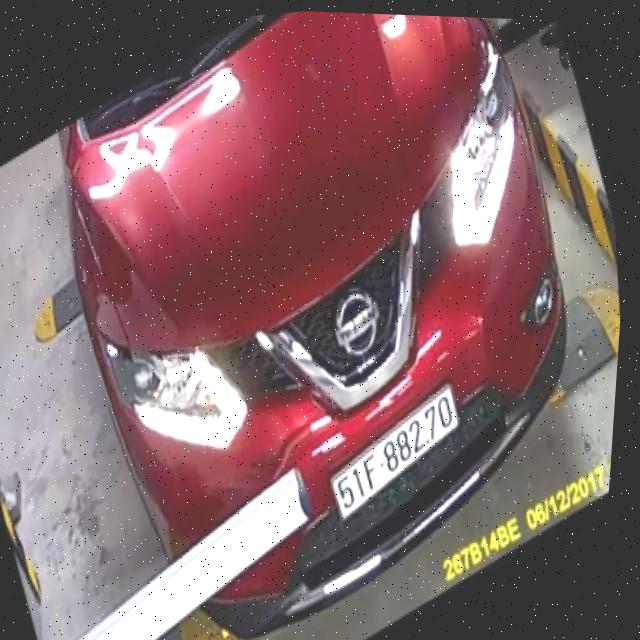car: (13, 2, 635, 640)
plate: (312, 377, 481, 530)
